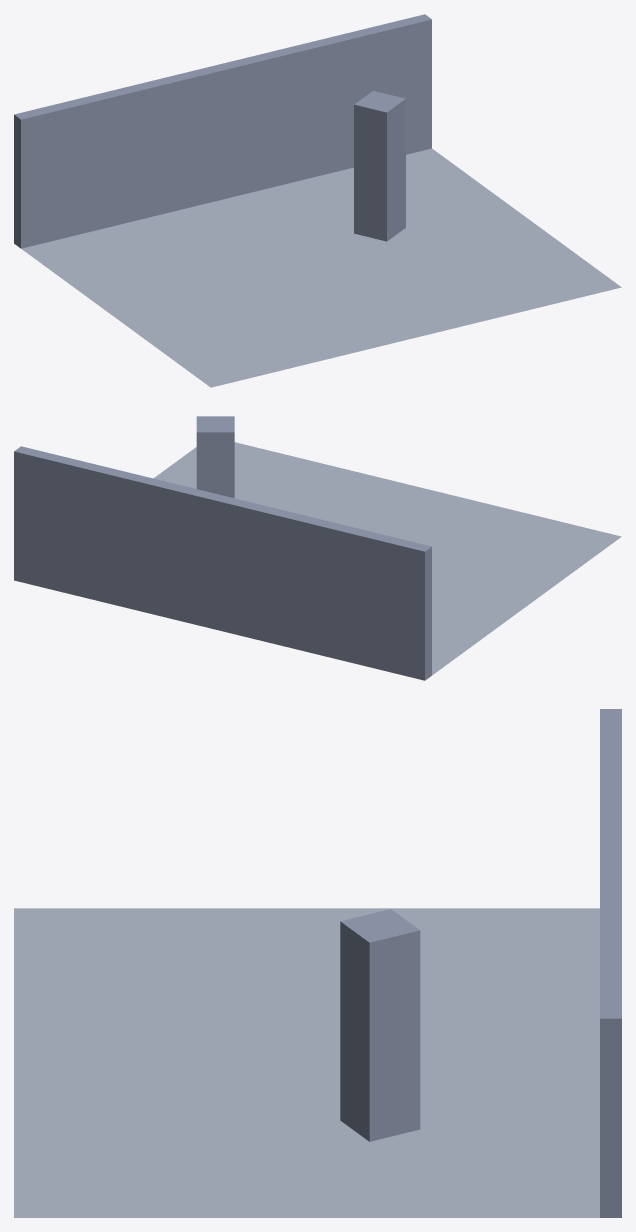
Rendered from glb-test.glb.
3 views of the same model, one above another, from view 1: azimuth 30°, elevation 25°; view 2: azimuth 150°, elevation 25°; view 3: azimuth 270°, elevation 25° (orthographic). The views are drawn at different scales.
Parts seen in each view (by area): view 1: Floor, Wall_north, Pillar_visual; view 2: Wall_north, Floor, Pillar_visual; view 3: Floor, Pillar_visual, Wall_north.
Boxes of the visible parts, x1,y1,x2,y2 form: Floor: (21,148,621,387); Wall_north: (14,14,431,248); Pillar_visual: (354,90,405,241); Wall_north: (14,446,431,680); Floor: (153,442,621,675); Pillar_visual: (196,416,234,498); Floor: (14,908,599,1217); Pillar_visual: (340,909,420,1141); Wall_north: (600,709,621,1217).
Bounding box in the file's own units: 10 × 3 × 8.3.
